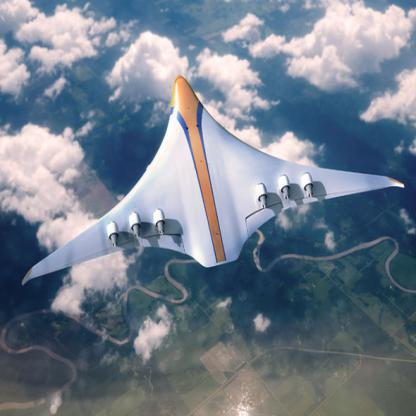CIV_Plane: (17, 70, 404, 284)
